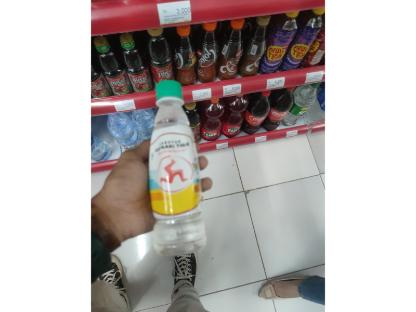Plastic Bottle: (148, 79, 207, 255)
